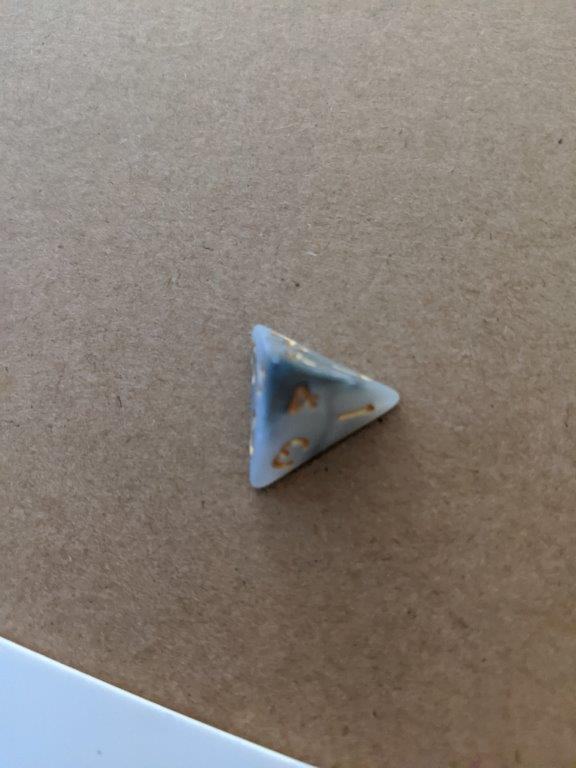d4-4: (244, 321, 404, 487)
